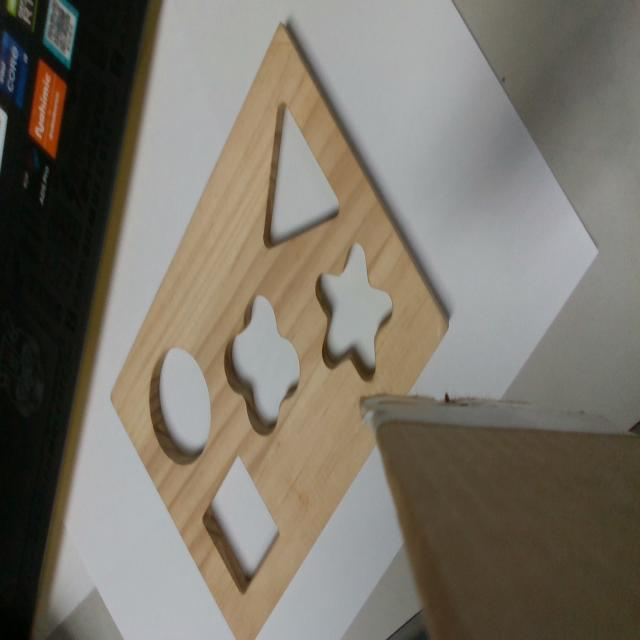circle: (150, 348, 210, 462)
flower: (222, 297, 301, 429)
square: (202, 456, 281, 596)
star: (315, 244, 395, 382)
triangle: (262, 99, 341, 250)
